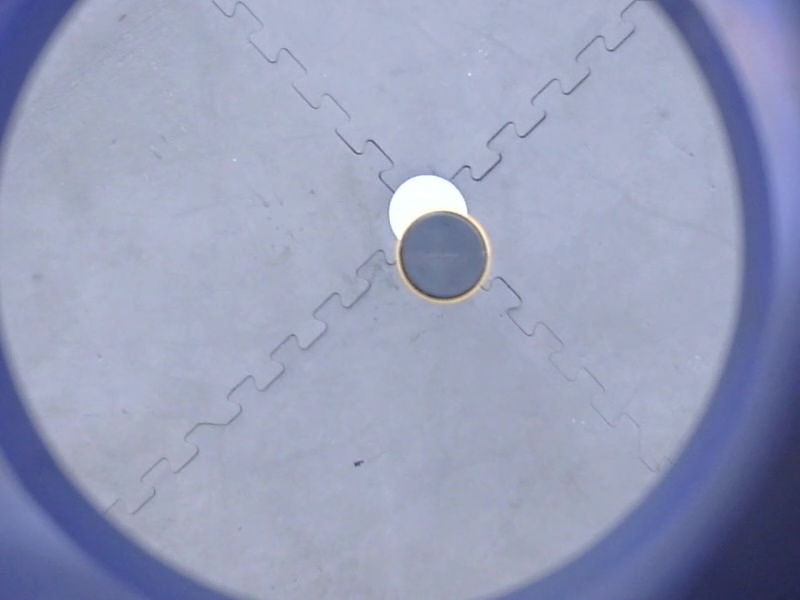tip: (393, 204, 499, 310)
